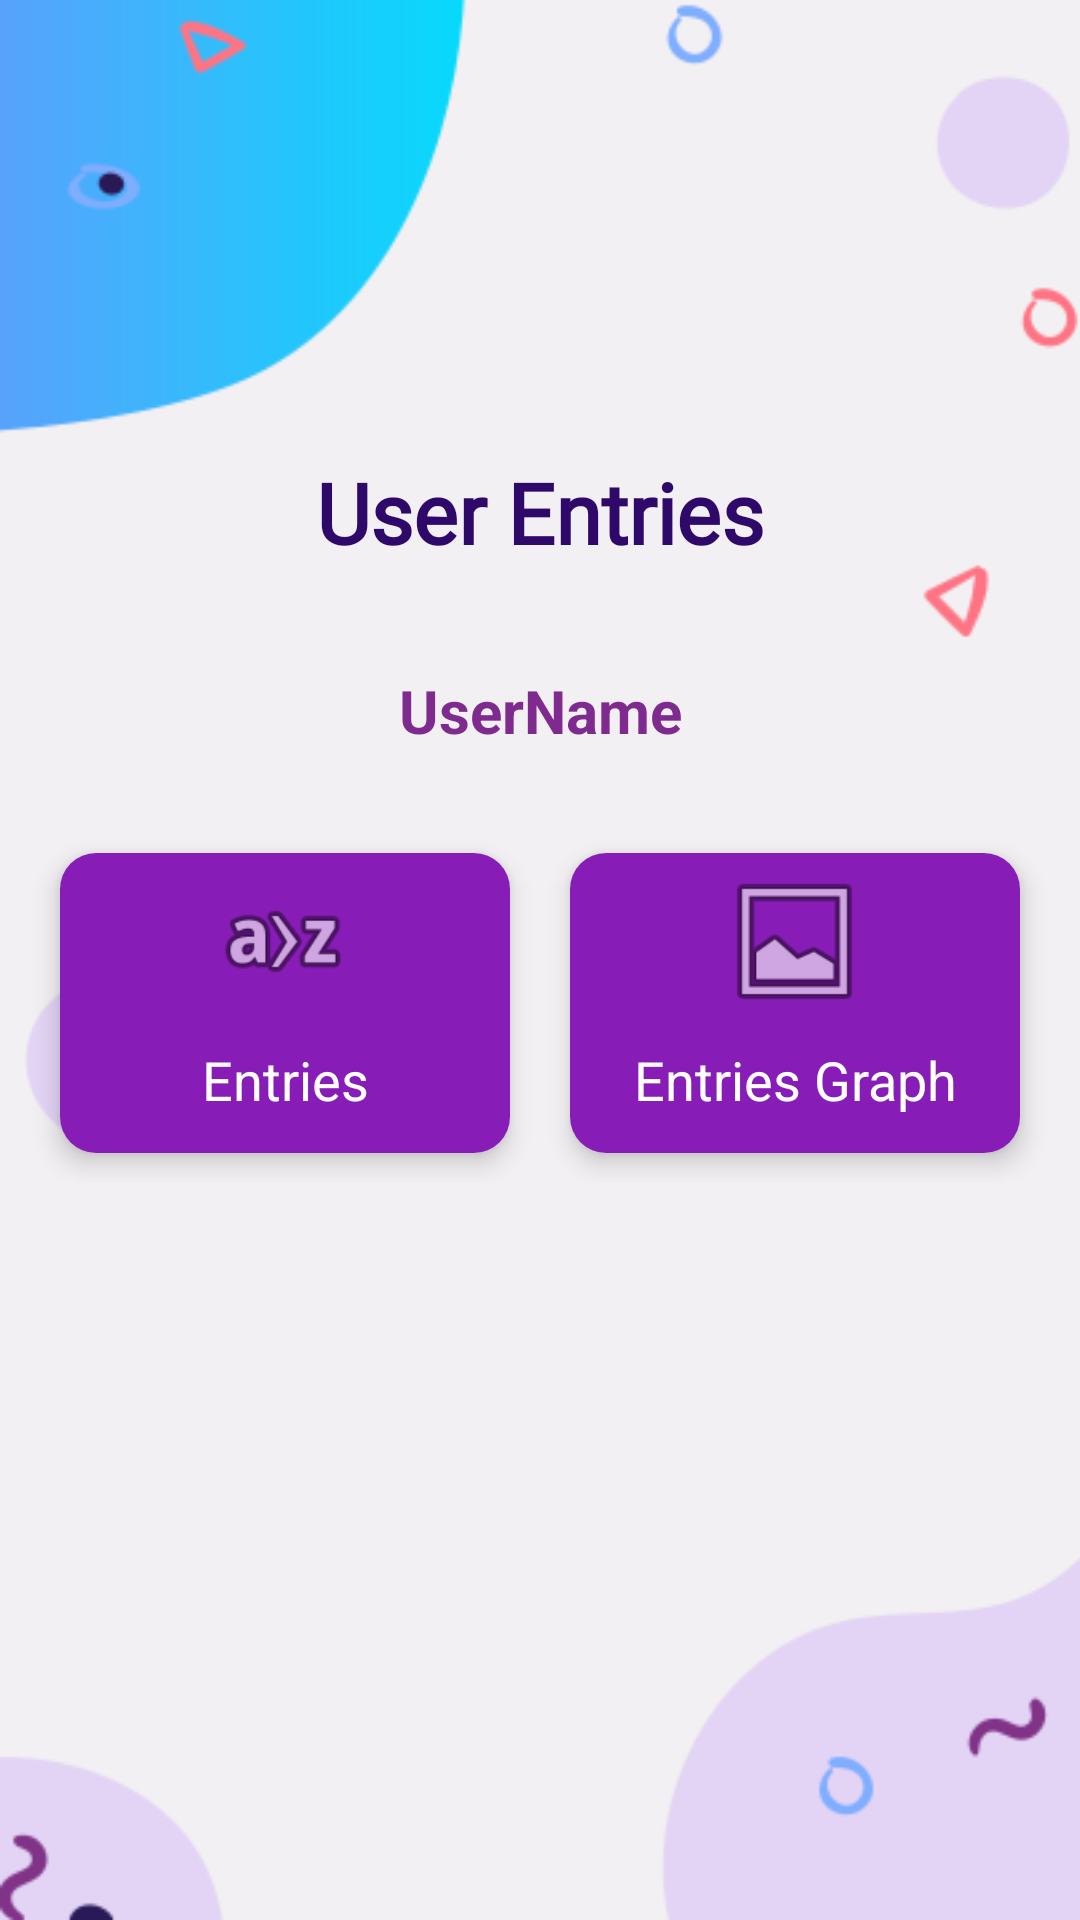

Icons on this 1080w x 1920h Android screen, each with its box as (x1, y1, x2, y2):
gallery: (737, 884, 852, 999)
sort alphabetically: (225, 911, 341, 972)
